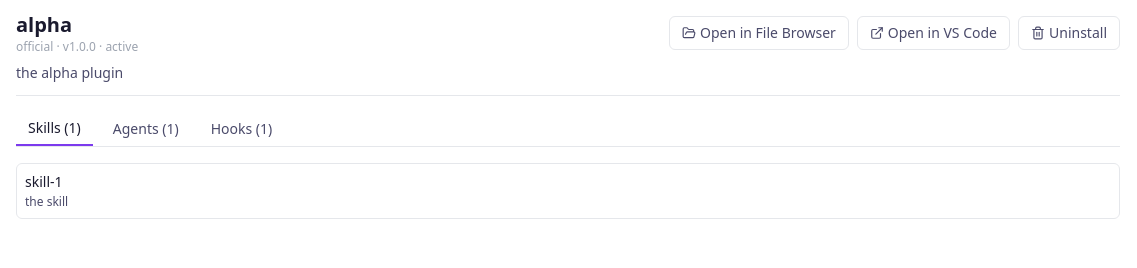
Test: PluginDetailView › Uninstall action (spec §6.7) › surfaces uninstall errors inline as role=alert
Click the button with test id "detail-uninstall-btn" at [1069, 33], box [1018, 16, 1120, 50]
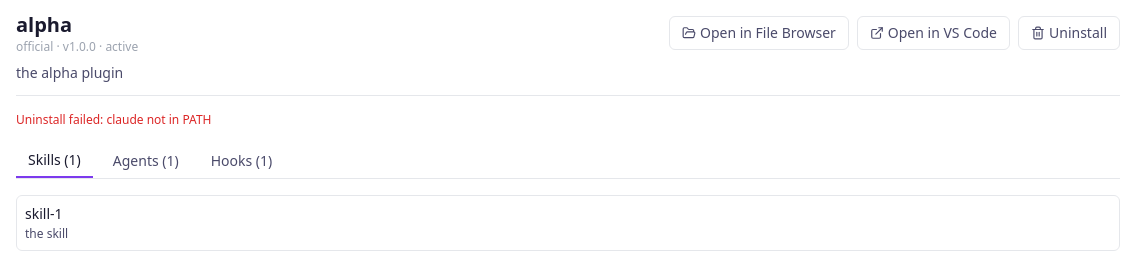
Expected: the message "Uninstall failed: claude not in PATH" is shown, [16, 111, 212, 128]
Expected: the message with test id "plugin-uninstall-error" shows "claude not in PATH", [106, 111, 212, 128]
